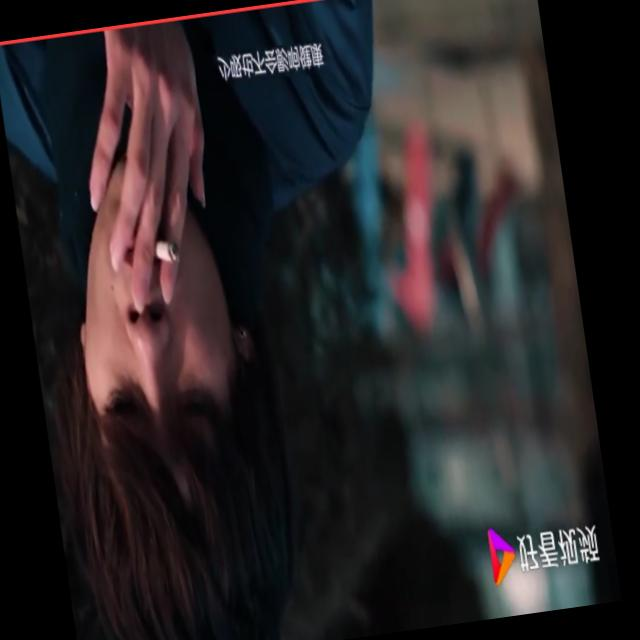smoke: (153, 238, 182, 266)
